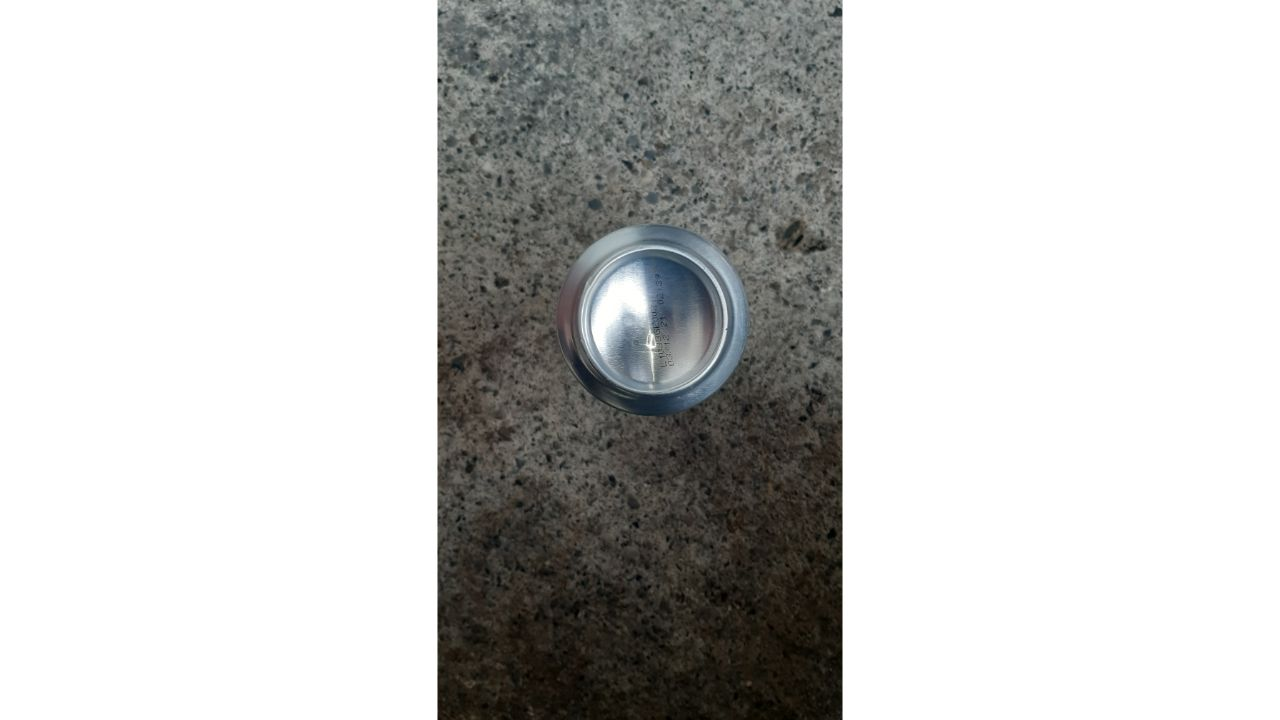Can: (544, 206, 763, 435)
